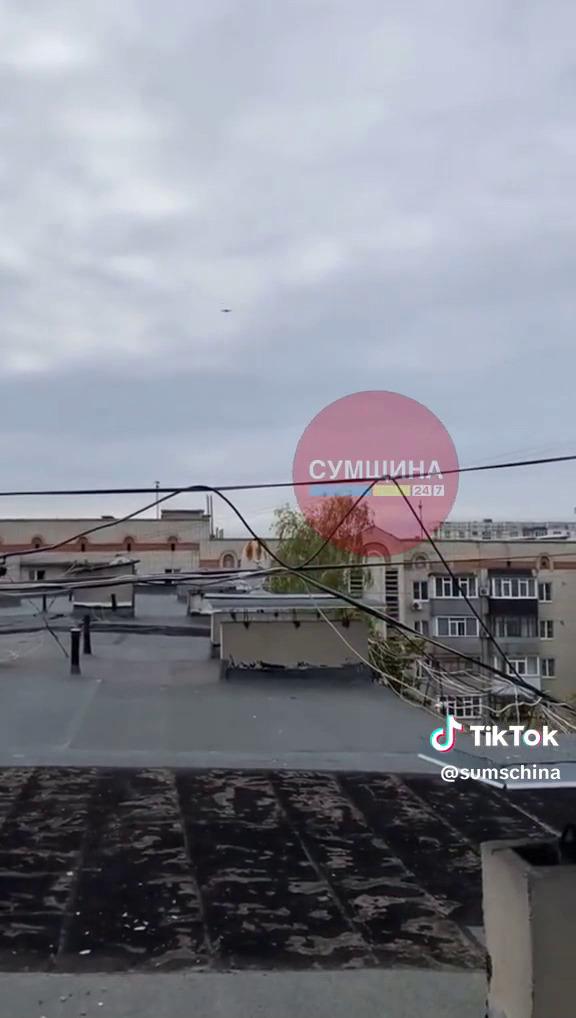shahed: (222, 308, 231, 313)
